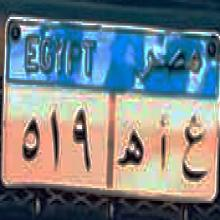1: (51, 112, 60, 162)
5: (20, 116, 40, 165)
9: (72, 107, 97, 172)
ain: (182, 114, 206, 183)
alif: (159, 113, 171, 166)
haa: (116, 124, 147, 173)
